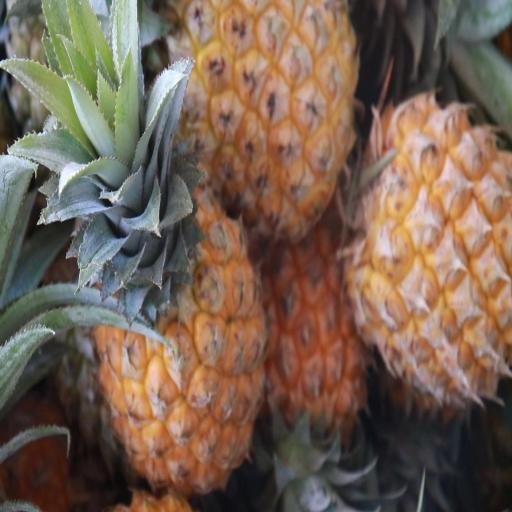Pineapple - v8 v1: (82, 132, 269, 492), (357, 86, 512, 396), (188, 0, 361, 237), (268, 209, 398, 433)
